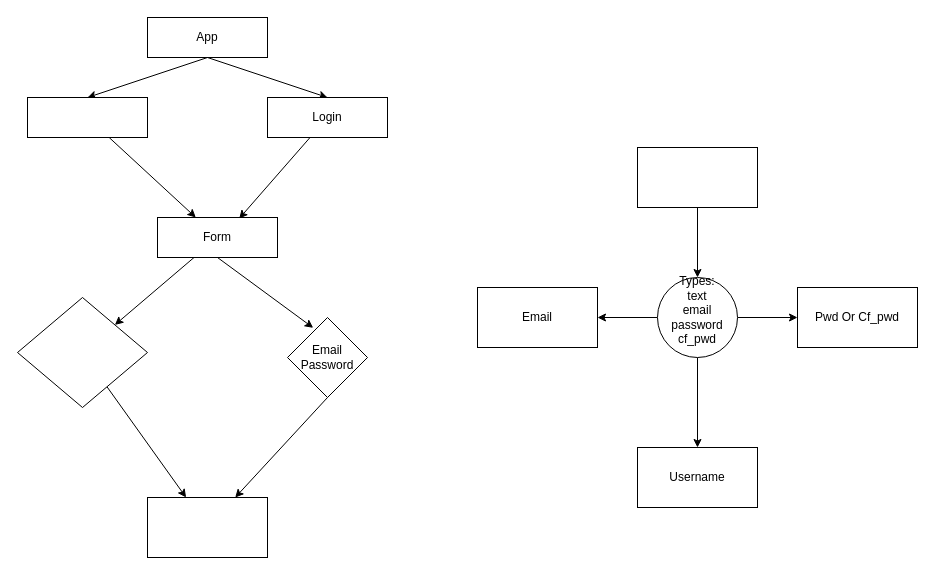
The diagram is 935 pixels wide and 575 high, and some of its shapes have lost their labels. The box of each missing label's shape, as (x1, y1, x2, y2) in pixels:
Input Field: (636, 146, 758, 208)
Sign up: (26, 96, 148, 138)
Submit button: (146, 496, 268, 558)
Username Confirm Password: (16, 296, 148, 408)
